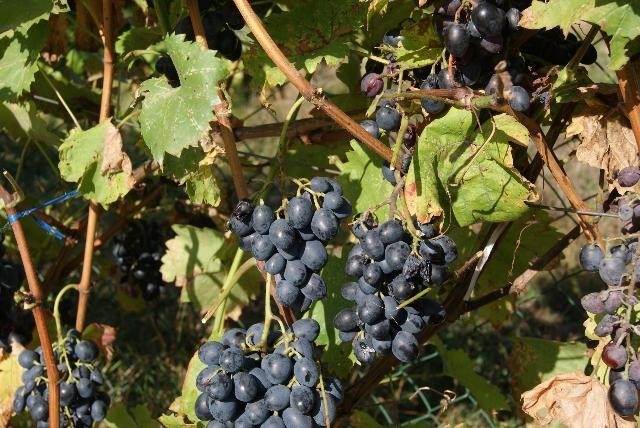grapes: (334, 210, 458, 365), (404, 0, 581, 95), (195, 320, 344, 428), (231, 178, 345, 306), (580, 236, 640, 419), (54, 330, 110, 428), (11, 348, 50, 428)
